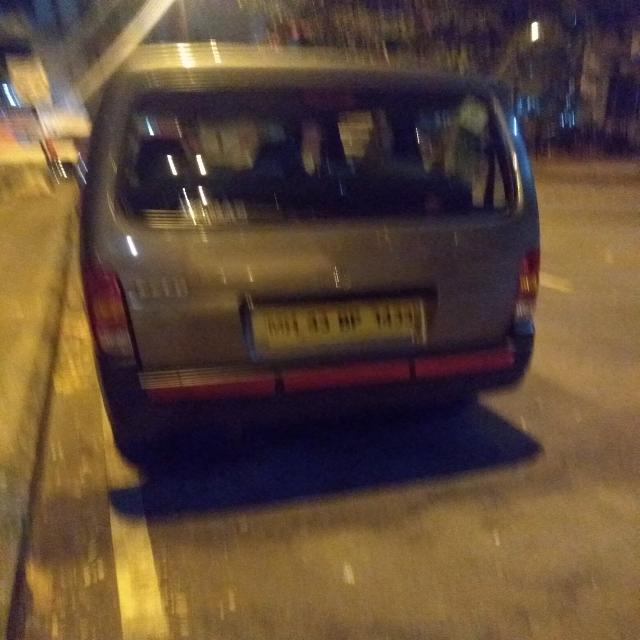Number-Plate: (267, 303, 412, 344)
